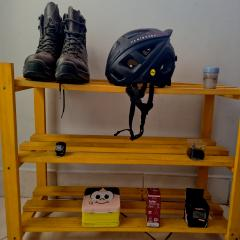bota1: (21, 3, 90, 85)
capacete: (104, 28, 177, 86)
cx-bike: (185, 187, 209, 228)
cx-ferro: (146, 188, 162, 228)
cx-magali: (82, 186, 120, 227)
cx-xuxa: (186, 140, 206, 161)
luz: (54, 142, 67, 158)
pote: (202, 67, 219, 90)
